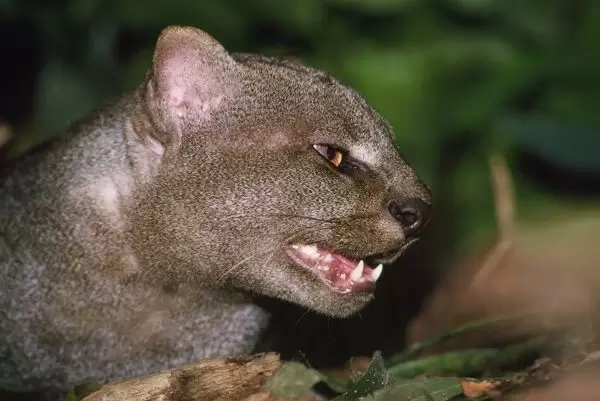Jaguarundi: (13, 20, 439, 350)
